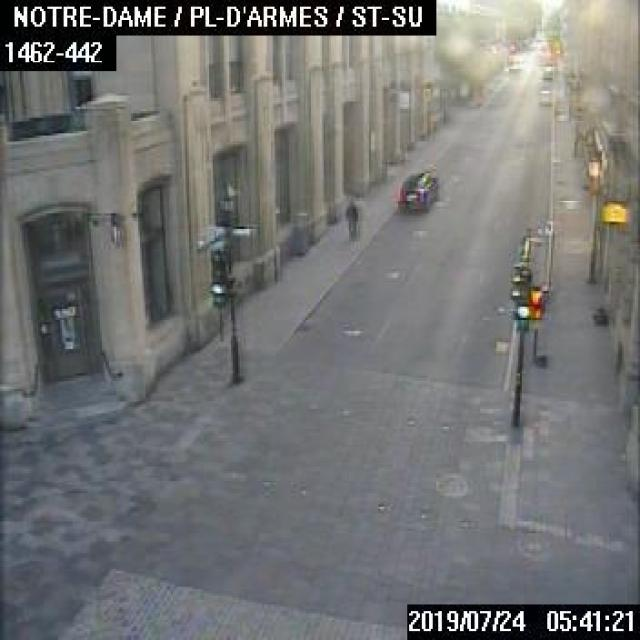pedestrian: (344, 193, 358, 236)
vehicle: (396, 167, 438, 213), (536, 86, 553, 105), (507, 55, 522, 69), (539, 64, 551, 80)
